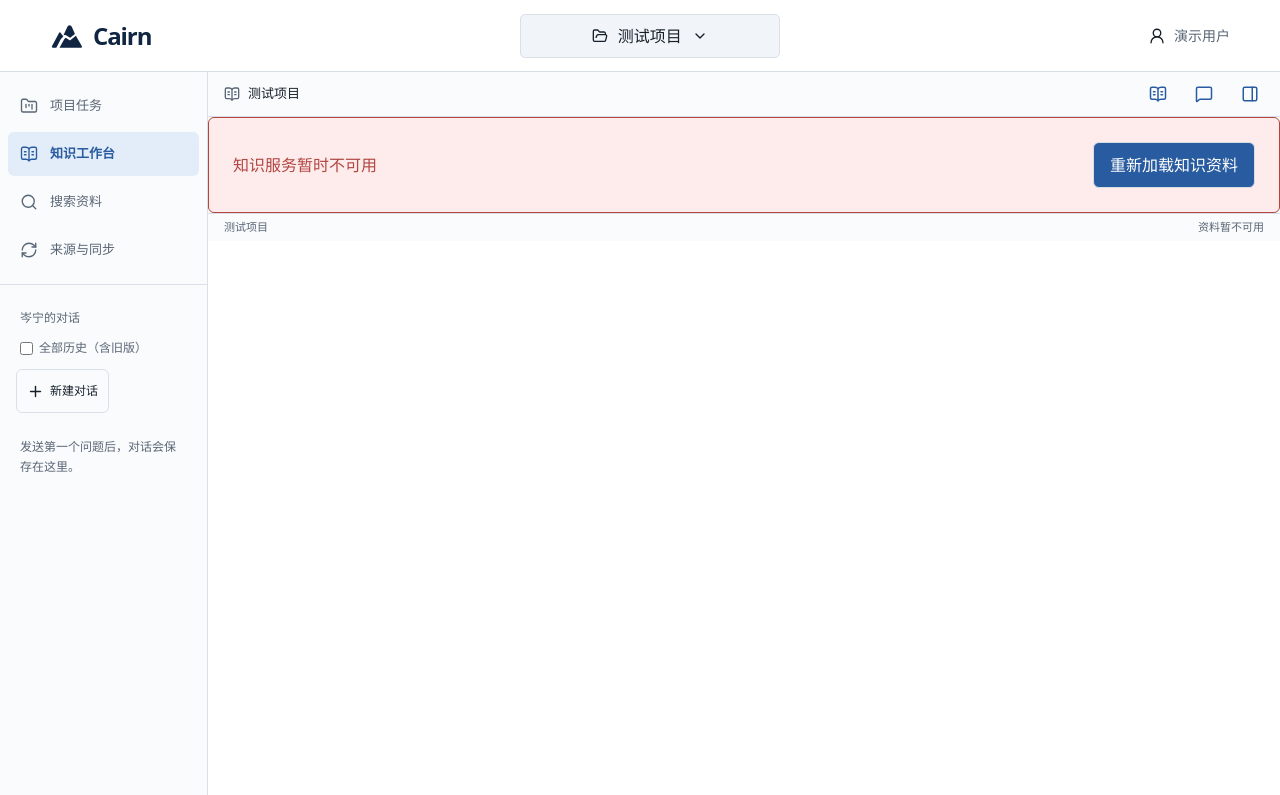
Scenario: project knowledge 503 errors offer retry and recover
Expected: the message "知识服务暂时不可用" is shown, left=233, top=153, right=377, bottom=177
Click the button "重新加载知识资料": (1174, 165) left=1093, top=142, right=1255, bottom=188
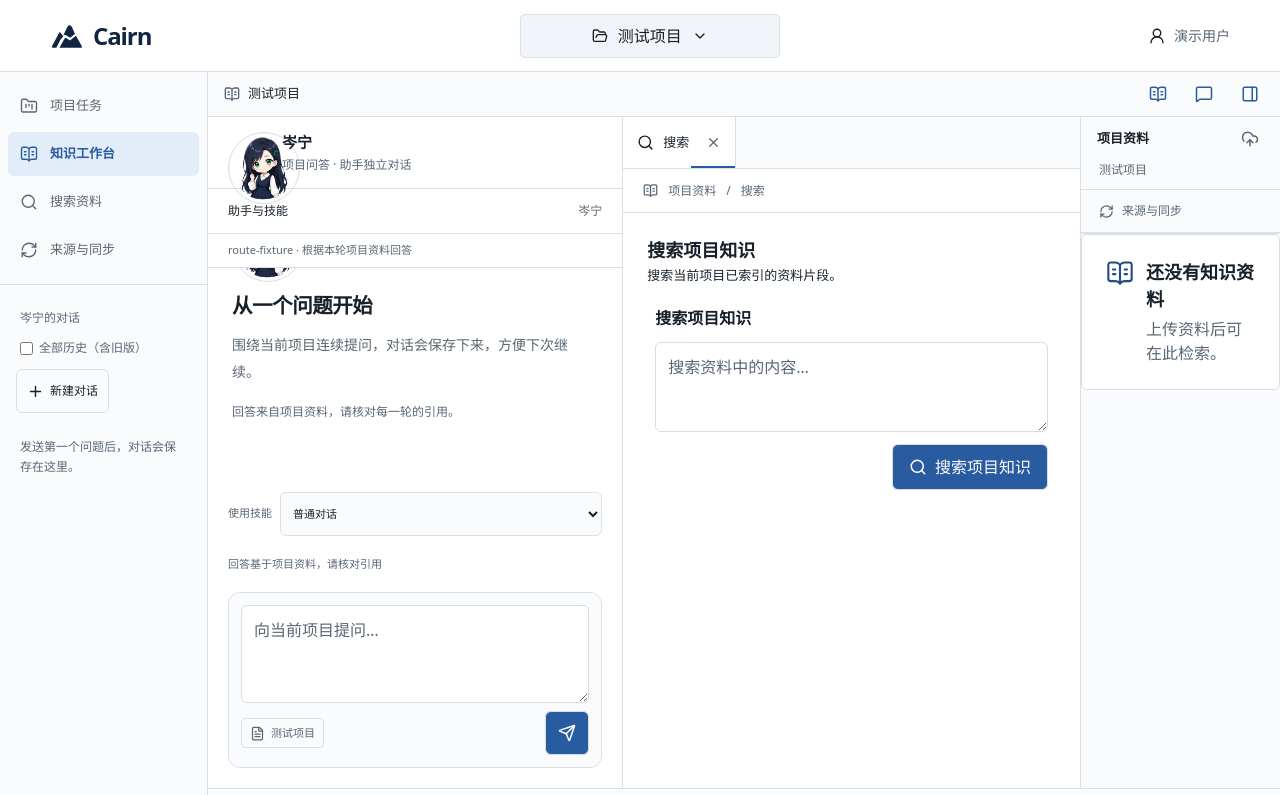
Expected: the heading "还没有知识资料" is shown, left=1146, top=259, right=1255, bottom=313
